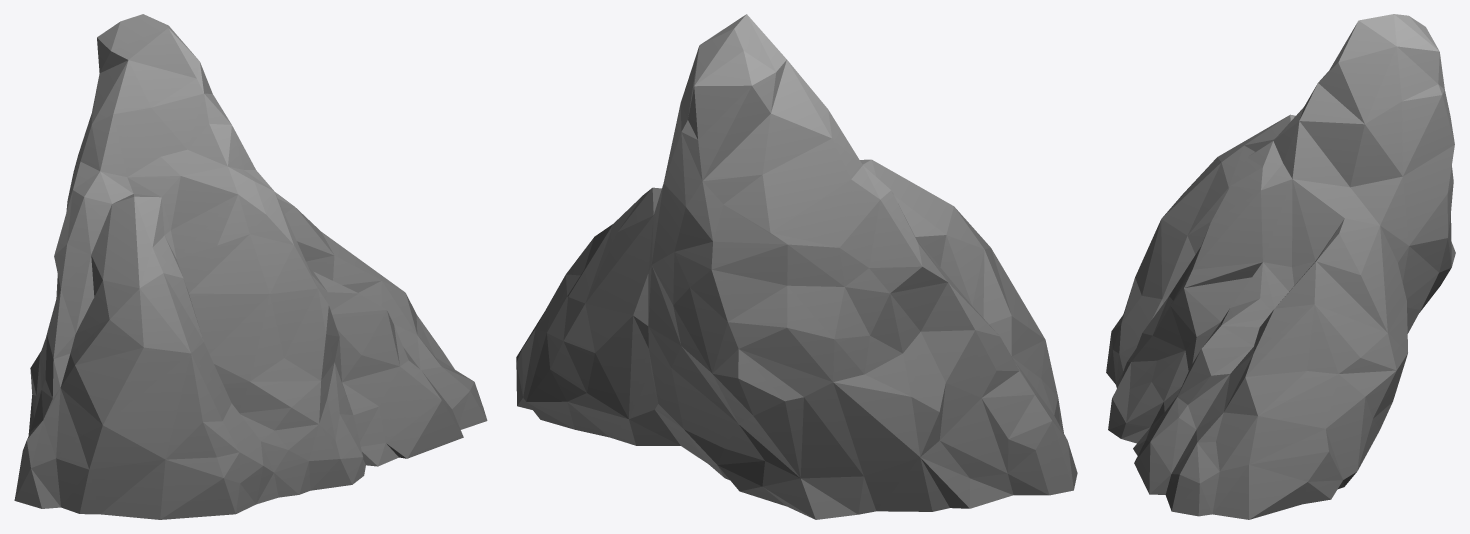
Rendered from stone-large-3.glb.
The picture shows the model from 3 angles, left to right: view 1: azimuth 30°, elevation 25°; view 2: azimuth 150°, elevation 25°; view 3: azimuth 270°, elevation 25°; orthographic projection. The views are drawn at different scales.
Parts seen in each view (by area): view 1: stone large 3; view 2: stone large 3; view 3: stone large 3.
Boxes of the visible parts, x1,y1,x2,y2 form: stone large 3: (14,14,487,519); stone large 3: (516,14,1077,519); stone large 3: (1106,14,1455,519).
Size of the model in its own units: 13.29 by 10.72 by 8.86.
Materials: 1 (1 with a texture image).
